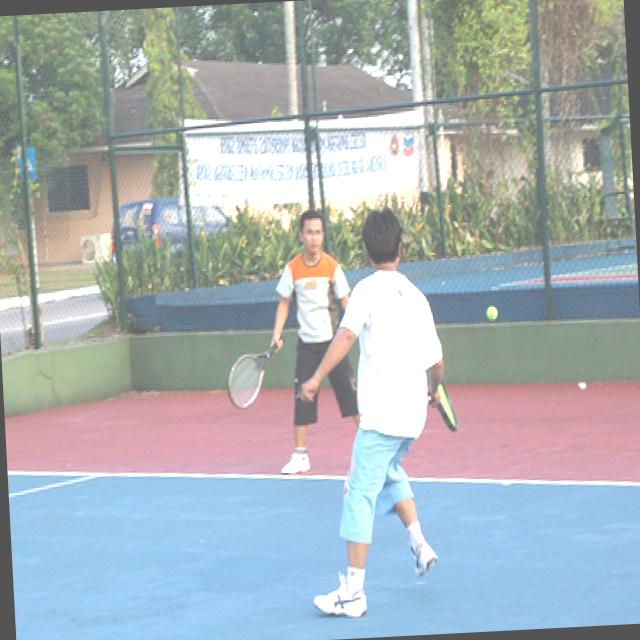Vehicle: (109, 194, 229, 266)
